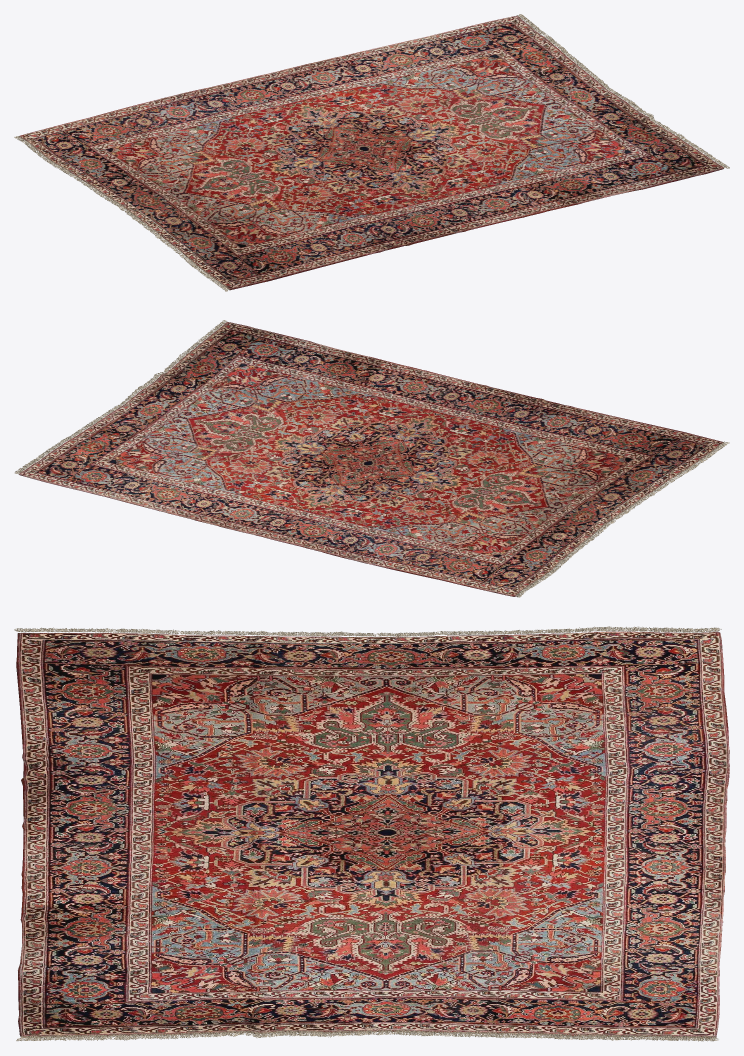
File: fine_persian_heriz_carpet.glb
3 renders of one model, top to bottom at view 1: azimuth 30°, elevation 25°; view 2: azimuth 150°, elevation 25°; view 3: azimuth 270°, elevation 25°, orthographic. The views are drawn at different scales.
Parts seen in each view (by area): view 1: Fine Persian Heriz Carpet_2, frange1_0, frange2_1; view 2: Fine Persian Heriz Carpet_2, frange1_0, frange2_1; view 3: Fine Persian Heriz Carpet_2, frange2_1, frange1_0.
Part boxes in pixels (<box>): Fine Persian Heriz Carpet_2: <box>19,15,723,290</box>; frange1_0: <box>14,136,229,291</box>; frange2_1: <box>517,14,729,168</box>; Fine Persian Heriz Carpet_2: <box>18,322,723,596</box>; frange1_0: <box>516,441,729,597</box>; frange2_1: <box>14,320,227,473</box>; Fine Persian Heriz Carpet_2: <box>16,631,729,1038</box>; frange2_1: <box>16,1029,718,1041</box>; frange1_0: <box>14,626,721,636</box>.
Size of the model in its own units: 3.93 by 0.0224 by 2.88.
Materials: 2 (1 with a texture image).
